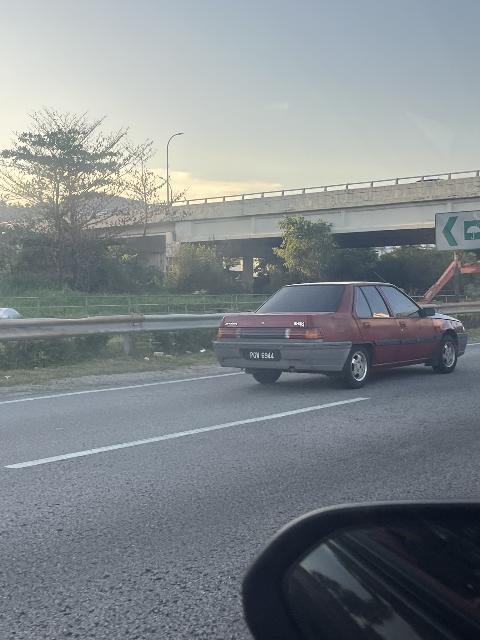License_Plate: (235, 347, 286, 367)
car: (212, 268, 466, 388)
